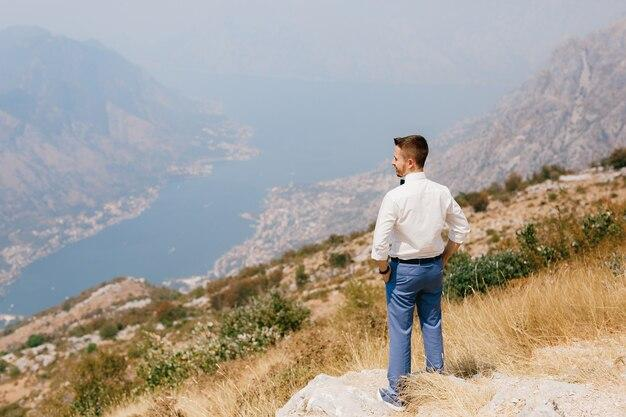Human: (364, 128, 476, 412)
